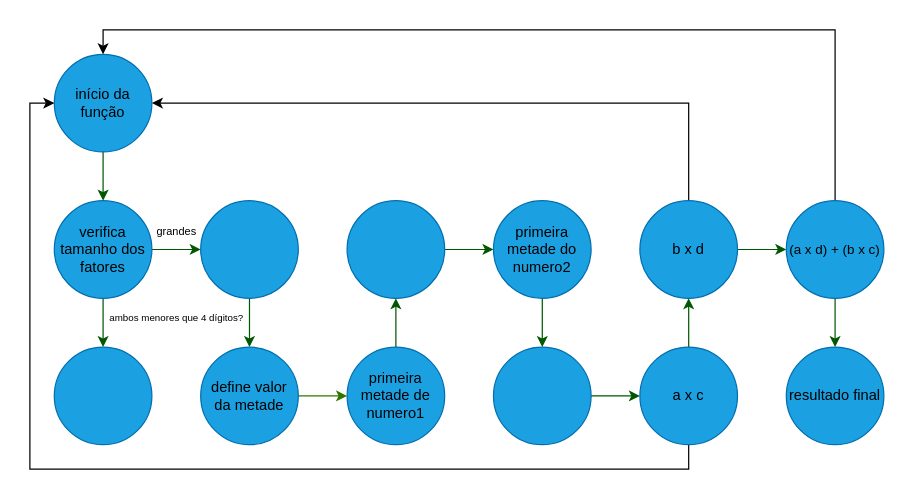
The diagram is 905 pixels wide and 500 high, and some of its shapes have lost their labels. The box of each missing label's shape, as (x1, y1, x2, y2) in pixels:
define maior fator: (199, 199, 298, 298)
retorna produto simples: (53, 346, 152, 445)
segunda metade do numero1: (346, 199, 445, 298)
segunda metade do numero2: (492, 346, 591, 445)
